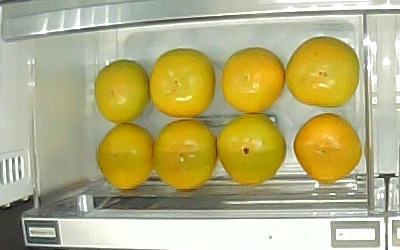persimmon: (285, 36, 359, 108), (292, 113, 363, 183), (216, 114, 287, 184), (150, 48, 215, 117), (155, 120, 216, 192), (221, 47, 285, 113), (96, 123, 156, 191), (94, 59, 150, 124)
